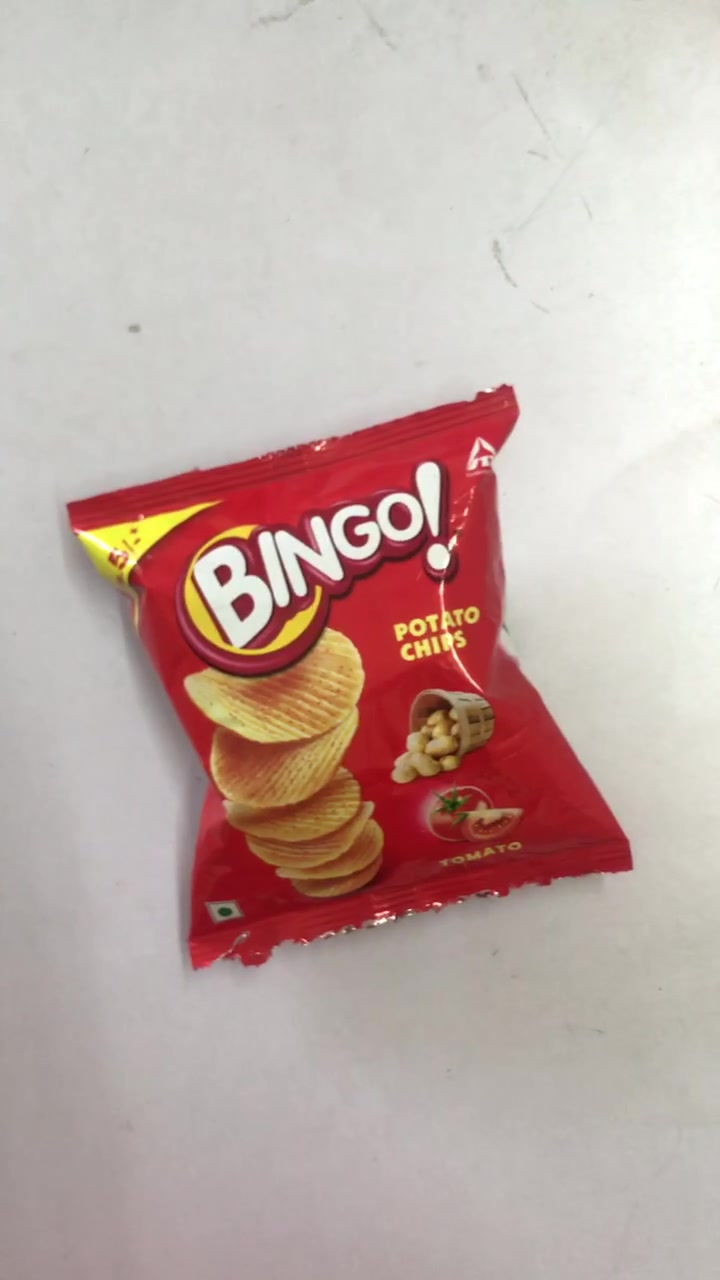Bingo: (77, 405, 624, 973)
